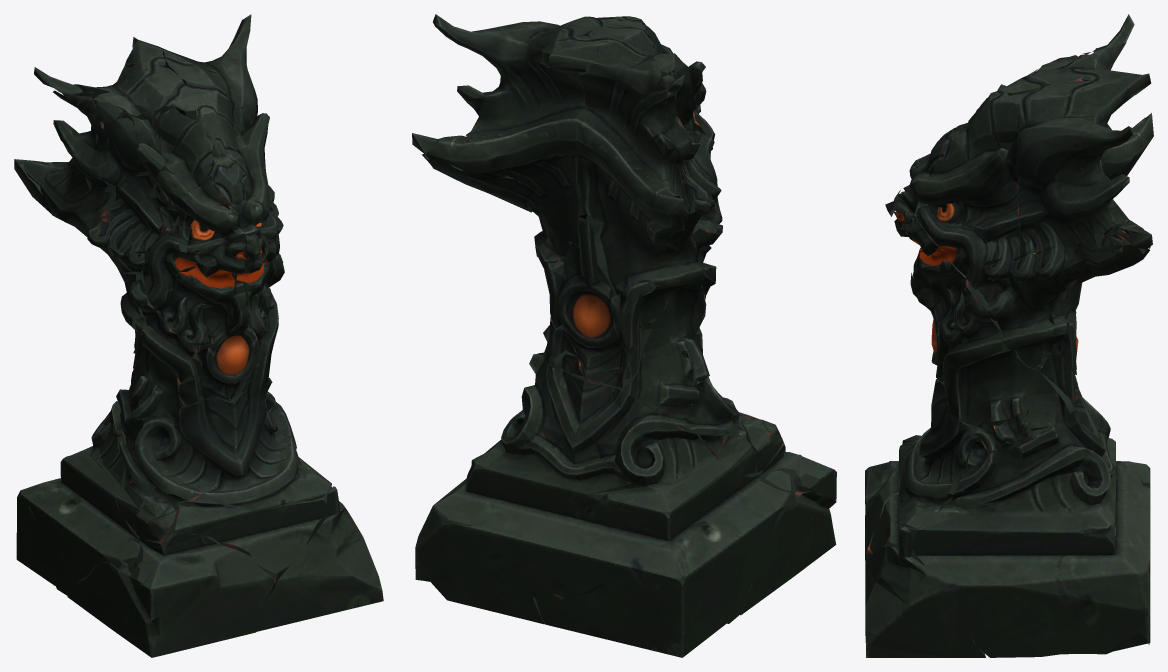
Rendered from TowerT2.glb.
3 renders of one model, left to right at view 1: azimuth 30°, elevation 25°; view 2: azimuth 150°, elevation 25°; view 3: azimuth 270°, elevation 25°, orthographic. The views are drawn at different scales.
Parts seen in each view (by area): view 1: models/props_structures/tower_dragon_blk_dest_lvl1.vmdl_c.to; view 2: models/props_structures/tower_dragon_blk_dest_lvl1.vmdl_c.to; view 3: models/props_structures/tower_dragon_blk_dest_lvl1.vmdl_c.to.
Part boxes in pixels (x1,y1,x2,y2): models/props_structures/tower_dragon_blk_dest_lvl1.vmdl_c.to: (14,14,383,657); models/props_structures/tower_dragon_blk_dest_lvl1.vmdl_c.to: (412,14,836,657); models/props_structures/tower_dragon_blk_dest_lvl1.vmdl_c.to: (865,14,1153,657).
Size of the model in its own units: 1.99 by 4.02 by 2.
Materials: 1 (1 with a texture image).
